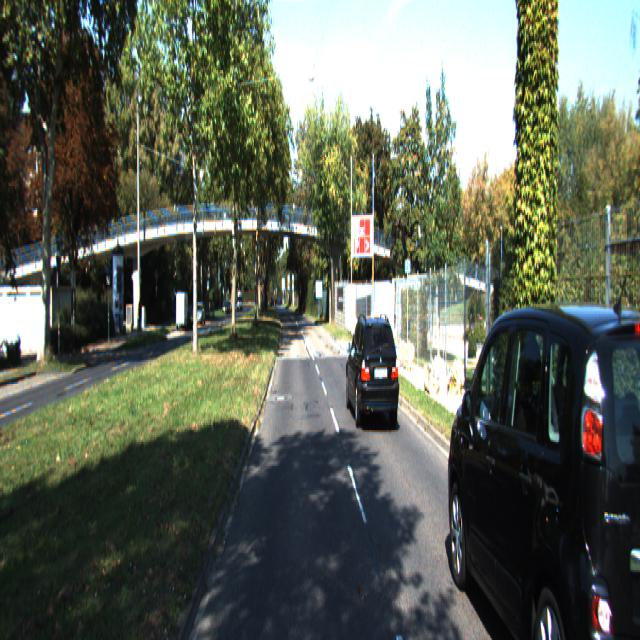Car: (441, 266, 640, 638), (345, 312, 401, 432)
